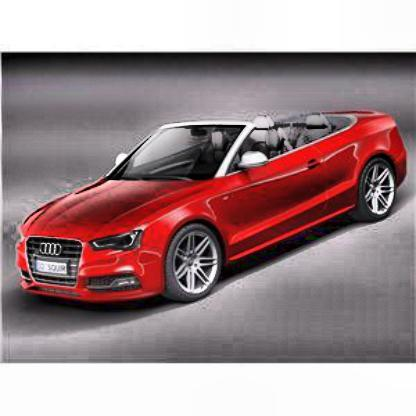Audi S5 Convertible 2012: (17, 111, 410, 310)
